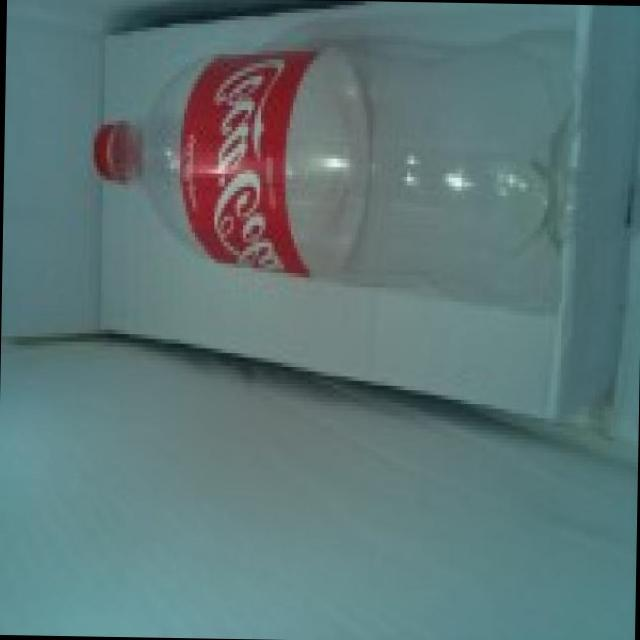good: (71, 35, 577, 328)
